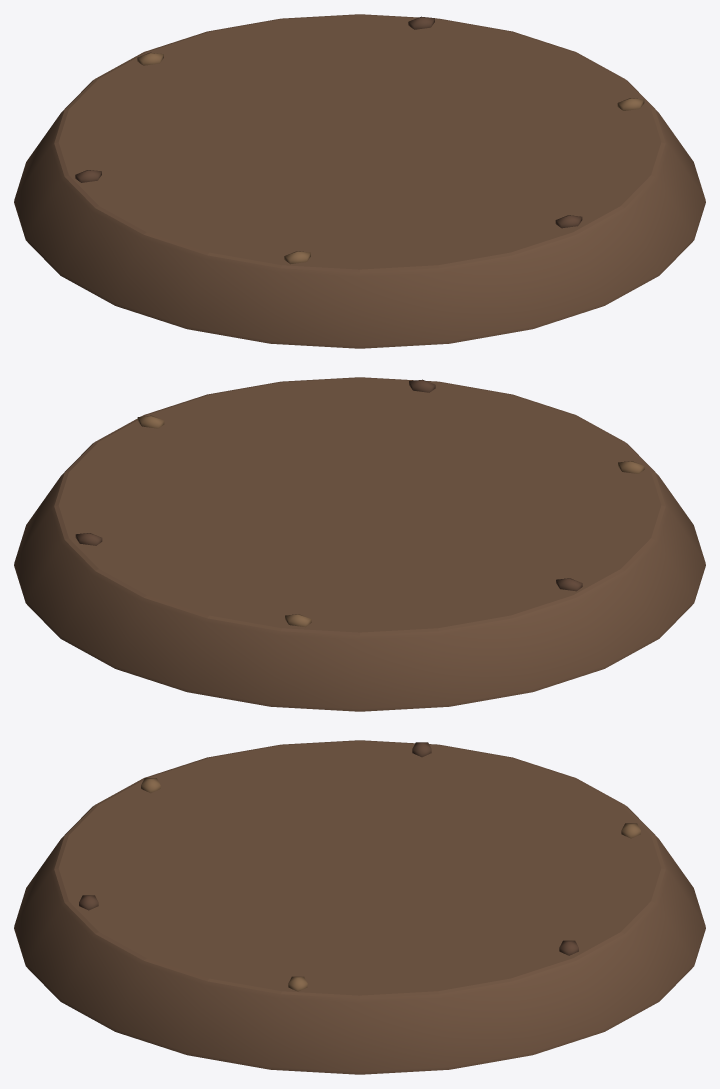
Rendered from flower_stage0.glb.
3 renders of one model, top to bottom at view 1: azimuth 30°, elevation 25°; view 2: azimuth 150°, elevation 25°; view 3: azimuth 270°, elevation 25°, orthographic.
Size of the model in its own units: 0.3775 by 0.0415 by 0.3775.
